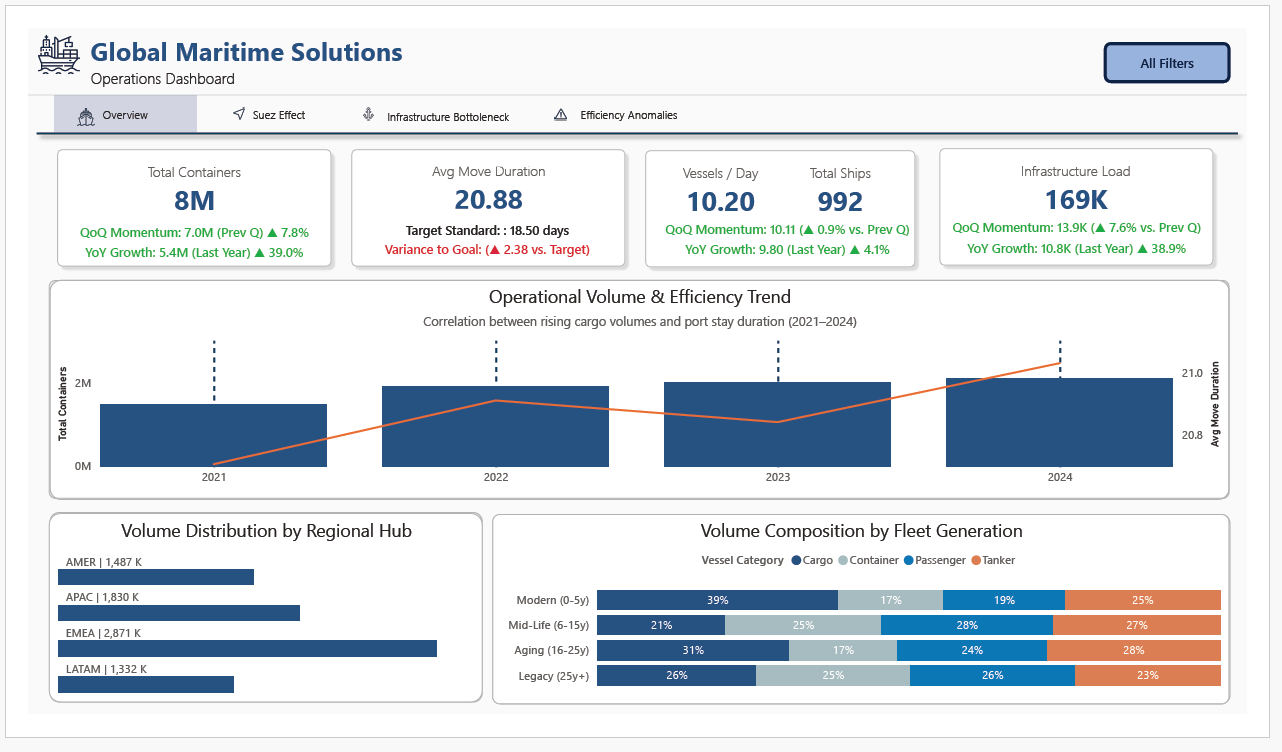

The page's visual inventory and layout, read from the dashboard file:
{"tool":"powerbi","page":{"name":"Overview","canvas":[1280,720],"ordinal":0},"visuals":[{"type":"actionButton","box":[27.3,70,148.8,40],"z":0,"group":"g5"},{"type":"actionButton","box":[178.5,70,167.5,40],"z":0,"group":"g6"},{"type":"actionButton","box":[347.3,70,187.5,42.5],"z":0,"group":"g7"},{"type":"actionButton","box":[537.3,70,187.5,38.8],"z":0,"group":"g8"},{"type":"shape","box":[951.3,120.3,300,135],"z":0,"group":"g10"},{"type":"shape","box":[333.3,120.6,300,135.4],"z":0,"group":"g11"},{"type":"shape","box":[24.4,121.3,300,135.4],"z":0,"group":"g12"},{"type":"shape","box":[642.3,122,296.1,135],"z":0,"group":"g9"},{"type":"cardVisual","fields":{"Data":["fact_cargo_movements.Max_Terminal_Volume"]},"box":[960.8,128.9,278.6,75.6],"z":0,"group":"g1"},{"type":"cardVisual","fields":{"Data":["fact_cargo_movements.KPI_Density_Actual","fact_cargo_movements.KPI_Density_Total_Ships_Label"]},"box":[652,132,277.5,73.6],"z":0,"group":"g2"},{"type":"cardVisual","fields":{"Data":["fact_cargo_movements.M2.Avg Move Duration"]},"box":[341.7,132.6,283.1,68.1],"z":0,"group":"g3"},{"type":"cardVisual","fields":{"Data":["fact_cargo_movements.total_containers"]},"box":[32.8,133,283.7,70.8],"z":0,"group":"g4"},{"type":"shape","box":[21.7,507.9,455,200],"z":0},{"type":"shape","box":[0,0,1280,140],"z":1000},{"type":"image","box":[51,82.1,18.7,20.8],"z":1000,"group":"g5"},{"type":"group","id":"g1","title":"Group 2","box":[960.8,128.9,279.5,116.3],"z":1000,"group":"g10"},{"type":"group","id":"g2","title":"Group 2","box":[652,132,290.3,115.1],"z":1000,"group":"g9"},{"type":"group","id":"g3","title":"Group 2","box":[338.9,132.6,285.9,112.2],"z":1000,"group":"g11"},{"type":"group","id":"g4","title":"Group 2","box":[31.4,133,286.1,115.9],"z":1000,"group":"g12"},{"type":"cardVisual","fields":{"Data":["fact_cargo_movements.KPI_Ops_QoQ_Display","fact_cargo_movements.KPI_Ops_YoY_Display"]},"box":[962.2,190.5,278.1,54.7],"z":1000,"group":"g1"},{"type":"cardVisual","fields":{"Data":["fact_cargo_movements.KPI_Density_QoQ_Display","fact_cargo_movements.KPI_Density_YoY_Display"]},"box":[652.7,194.1,289.7,53.1],"z":1000,"group":"g2"},{"type":"cardVisual","fields":{"Data":["fact_cargo_movements.Efficiency_Gap_Text_1","fact_cargo_movements.KPI_Duration_System_Variance"]},"box":[338.9,195,285.9,49.8],"z":1000,"group":"g3"},{"type":"cardVisual","fields":{"Data":["fact_cargo_movements.KPI_Containers_QoQ_Display","fact_cargo_movements.KPI_Containers_YoY_Display"]},"box":[31.4,197.1,286.1,51.8],"z":1000,"group":"g4"},{"type":"cardVisual","fields":{"Data":["fact_cargo_movements.KPI_Containers_Secondary_QoQ","fact_cargo_movements.KPI_Containers_Tertiary_YoY"]},"box":[136.3,279.9,277.5,51.9],"z":2000},{"type":"shape","box":[21.7,264.2,1240,230.4],"z":3000},{"type":"textbox","title":"logo text","box":[60,0,431.2,70],"z":4000},{"type":"image","title":"logo","box":[6.2,6.2,50,42.5],"z":5000},{"type":"actionButton","title":"btn_AllFilters","box":[1130,14.3,132.9,42.9],"z":7000},{"type":"shape","title":"Line below","box":[0,86.2,1280,48],"z":8000},{"type":"group","id":"g5","title":"Group 1","box":[27.3,70,148.8,40],"z":9000},{"type":"group","id":"g6","title":"Group 1","box":[178.5,70,167.5,40],"z":10000},{"type":"group","id":"g7","title":"Group 1","box":[347.3,70,187.5,42.5],"z":11000},{"type":"image","title":"SE_img","box":[211.5,83,17,12],"z":12000},{"type":"image","title":"IB_img","box":[351,82.5,12.5,13.8],"z":13000},{"type":"group","id":"g8","title":"EA","box":[537.3,70,187.5,38.8],"z":14000},{"type":"image","box":[548.5,83.8,20,12.5],"z":15000},{"type":"lineClusteredColumnComboChart","title":"Operational Volume & Efficiency Trend","fields":{"Y":["fact_cargo_movements.total_containers"],"Y2":["fact_cargo_movements.M2.Avg Move Duration"],"Category":["dim_time.date_id.Variation.Date Hierarchy.Year","dim_time.date_id.Variation.Date Hierarchy.Month","dim_time.date_id.Variation.Date Hierarchy.Day"]},"box":[21.1,263.8,1240.9,230.3],"z":16000},{"type":"clusteredBarChart","title":"Volume Distribution by Regional Hub","fields":{"Category":["dim_terminal.regional_hub"],"Y":["fact_cargo_movements.label_placeholder","fact_cargo_movements.total_containers"]},"box":[21.1,509,455.7,199.4],"z":17000},{"type":"group","id":"g9","title":"KPI3","box":[642.3,122,300,135],"z":18000},{"type":"group","id":"g10","title":"KPI4","box":[951.3,120.3,300,135],"z":19000},{"type":"shape","box":[487.1,510,775.7,200],"z":20000},{"type":"hundredPercentStackedBarChart","title":"Volume Composition by Fleet Generation","fields":{"Category":["Generation_Map.GenerationName"],"Y":["fact_cargo_movements.total_containers"],"Series":["dim_vessel.vessel_category"]},"box":[487.1,510,775,200],"z":21000},{"type":"group","id":"g11","title":"KPI2","box":[333.3,120.6,300,135.4],"z":22000},{"type":"group","id":"g12","title":"KPI1","box":[24.4,121.3,300,135.4],"z":23000}]}

Visuals, with their boxes on the page's 1280x720 design canvas (x1, y1, x2, y2). These are canvas units, not pixel positions in the 1282x752 screenshot, which may show the page scaled, cropped or inside an application window:
actionButton: (27, 70, 176, 110)
actionButton: (178, 70, 346, 110)
actionButton: (347, 70, 535, 112)
actionButton: (537, 70, 725, 109)
shape: (951, 120, 1251, 255)
shape: (333, 121, 633, 256)
shape: (24, 121, 324, 257)
shape: (642, 122, 938, 257)
cardVisual - fact_cargo_movements.Max_Terminal_Volume: (961, 129, 1239, 204)
cardVisual - fact_cargo_movements.KPI_Density_Actual x fact_cargo_movements.KPI_Density_Total_Ships_Label: (652, 132, 930, 206)
cardVisual - fact_cargo_movements.M2.Avg Move Duration: (342, 133, 625, 201)
cardVisual - fact_cargo_movements.total_containers: (33, 133, 316, 204)
shape: (22, 508, 477, 708)
shape: (0, 0, 1280, 140)
image: (51, 82, 70, 103)
"Group 2" group: (961, 129, 1240, 245)
"Group 2" group: (652, 132, 942, 247)
"Group 2" group: (339, 133, 625, 245)
"Group 2" group: (31, 133, 318, 249)
cardVisual - fact_cargo_movements.KPI_Ops_QoQ_Display x fact_cargo_movements.KPI_Ops_YoY_Display: (962, 190, 1240, 245)
cardVisual - fact_cargo_movements.KPI_Density_QoQ_Display x fact_cargo_movements.KPI_Density_YoY_Display: (653, 194, 942, 247)
cardVisual - fact_cargo_movements.Efficiency_Gap_Text_1 x fact_cargo_movements.KPI_Duration_System_Variance: (339, 195, 625, 245)
cardVisual - fact_cargo_movements.KPI_Containers_QoQ_Display x fact_cargo_movements.KPI_Containers_YoY_Display: (31, 197, 318, 249)
cardVisual - fact_cargo_movements.KPI_Containers_Secondary_QoQ x fact_cargo_movements.KPI_Containers_Tertiary_YoY: (136, 280, 414, 332)
shape: (22, 264, 1262, 495)
"logo text" textbox: (60, 0, 491, 70)
"logo" image: (6, 6, 56, 49)
"btn_AllFilters" actionButton: (1130, 14, 1263, 57)
"Line below" shape: (0, 86, 1280, 134)
"Group 1" group: (27, 70, 176, 110)
"Group 1" group: (178, 70, 346, 110)
"Group 1" group: (347, 70, 535, 112)
"SE_img" image: (212, 83, 228, 95)
"IB_img" image: (351, 82, 364, 96)
"EA" group: (537, 70, 725, 109)
image: (548, 84, 568, 96)
"Operational Volume & Efficiency Trend" lineClusteredColumnComboChart: (21, 264, 1262, 494)
"Volume Distribution by Regional Hub" clusteredBarChart: (21, 509, 477, 708)
"KPI3" group: (642, 122, 942, 257)
"KPI4" group: (951, 120, 1251, 255)
shape: (487, 510, 1263, 710)
"Volume Composition by Fleet Generation" hundredPercentStackedBarChart: (487, 510, 1262, 710)
"KPI2" group: (333, 121, 633, 256)
"KPI1" group: (24, 121, 324, 257)
